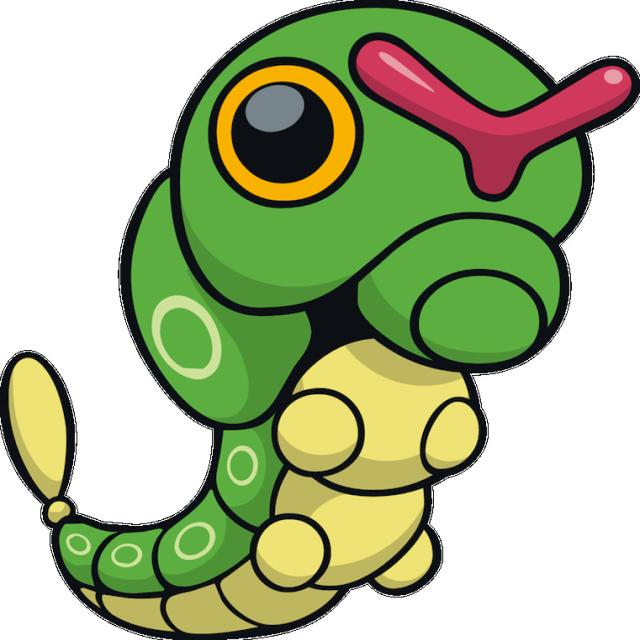Caterpie: (27, 16, 630, 630)
